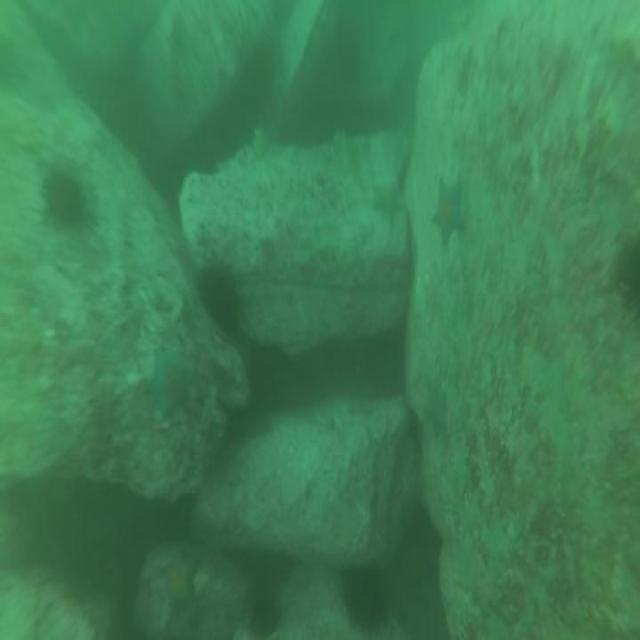echinus: (34, 161, 92, 236), (342, 561, 391, 640), (194, 261, 244, 338), (609, 234, 640, 314), (243, 588, 281, 640)
holothurian: (332, 126, 366, 186)
starfish: (150, 342, 198, 424), (157, 545, 201, 612), (429, 177, 466, 250), (420, 371, 450, 444), (369, 180, 403, 226)
